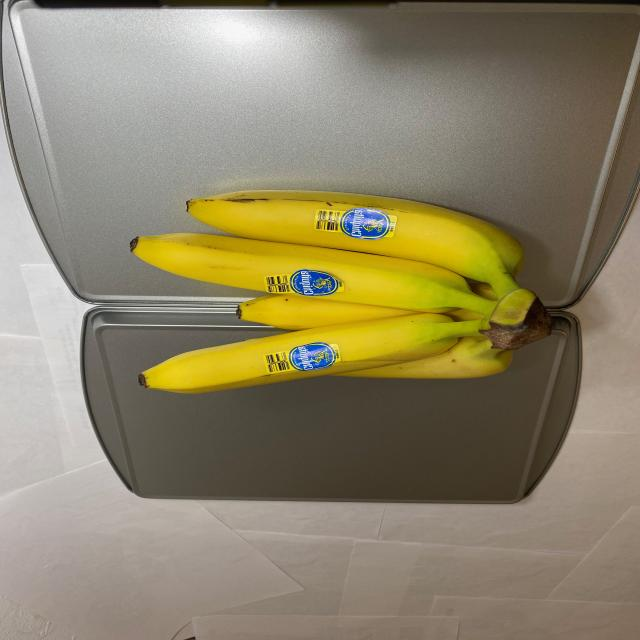Banana: (124, 187, 553, 404)
